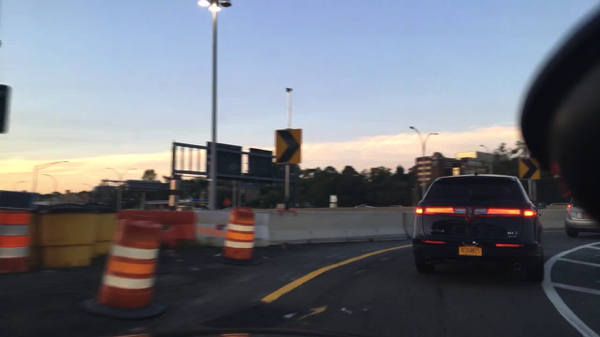car: (410, 170, 544, 284), (563, 191, 599, 241), (32, 198, 117, 213), (353, 202, 377, 208), (550, 201, 570, 207)
traffic sign: (206, 143, 243, 179), (273, 128, 301, 164), (249, 147, 273, 179), (517, 156, 539, 183), (1, 84, 10, 133), (221, 198, 234, 207)
